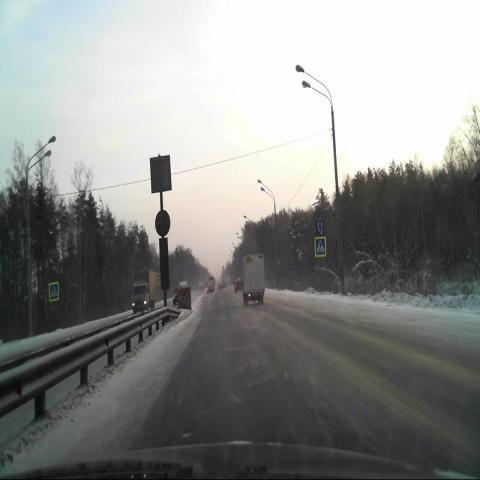5_15_3: (315, 219, 324, 237)
5_19_1: (314, 237, 326, 256)
